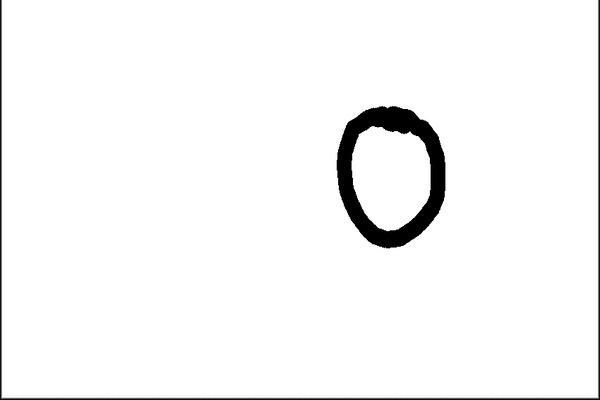O: (324, 97, 454, 256)
